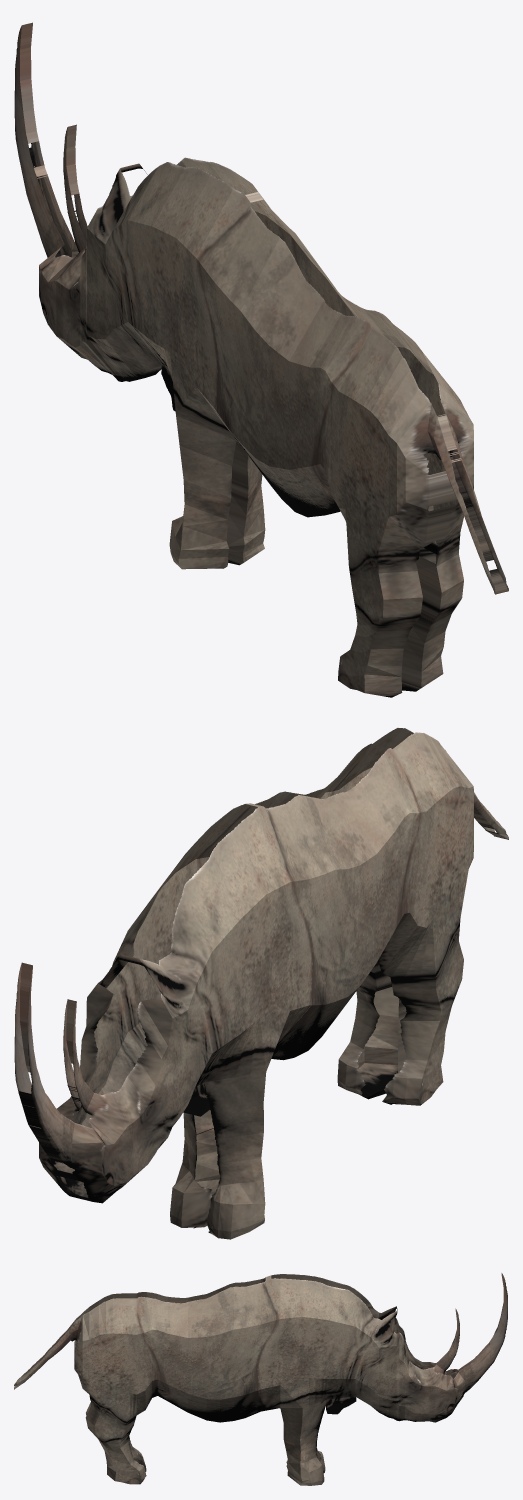
The model's file is Rhino.obj.
The picture shows the model from 3 angles, top to bottom: view 1: azimuth 30°, elevation 25°; view 2: azimuth 150°, elevation 25°; view 3: azimuth 270°, elevation 25°; orthographic projection. The views are drawn at different scales.
Parts seen in each view (by area): view 1: Cube_Cube.001; view 2: Cube_Cube.001; view 3: Cube_Cube.001.
Part boxes in pixels (x1,y1,x2,y2): Cube_Cube.001: [14, 22, 508, 697]; Cube_Cube.001: [14, 728, 508, 1239]; Cube_Cube.001: [14, 1273, 507, 1485].
Bounding box in the file's own units: 0.4062 × 1.66 × 3.57.
Materials: 1 (1 with a texture image).
